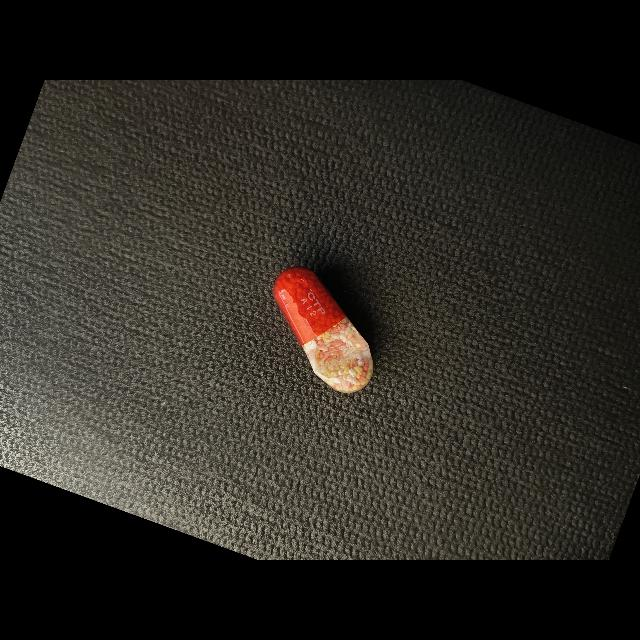Defective Capsule: (273, 267, 373, 393)
